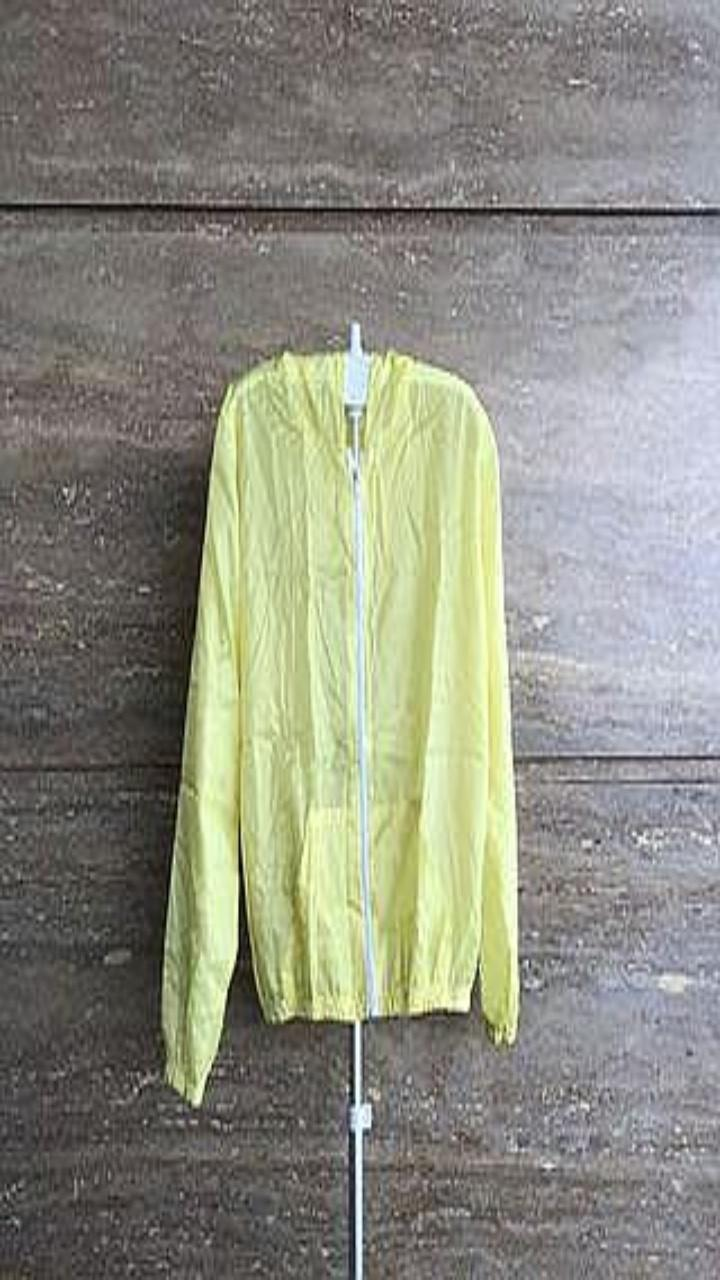Sports_Jacket: (161, 349, 518, 1105)
